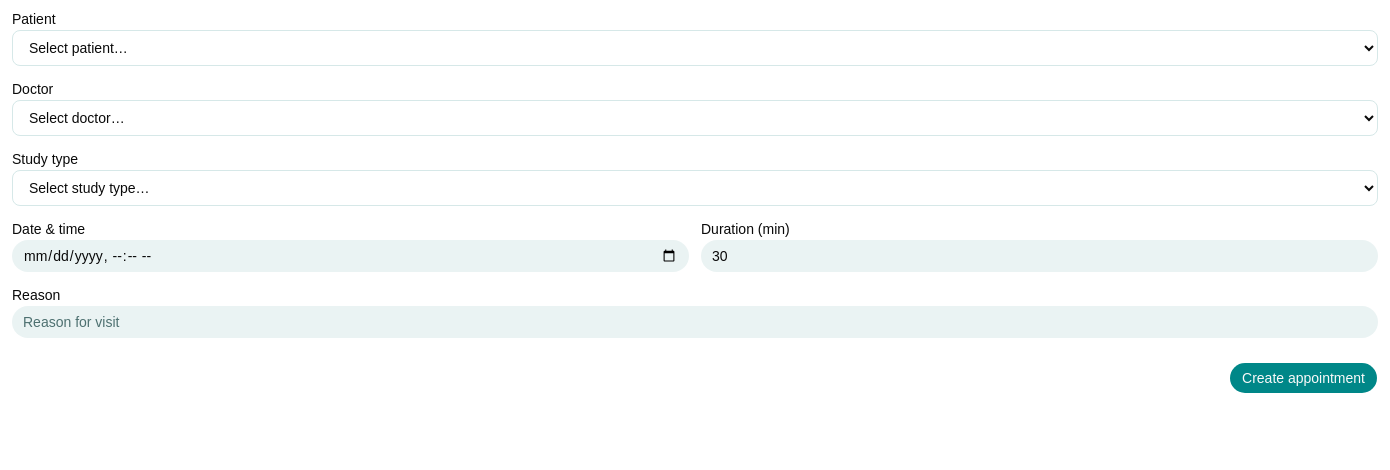
AppointmentForm › as admin › shows validation errors when required fields are empty
The image size is (1390, 470).
Expected: the dropdown labelled "Patient" is shown, [12,30,1378,66]
Click the button "Create appointment" at (1304, 378), box [1229,362,1378,394]
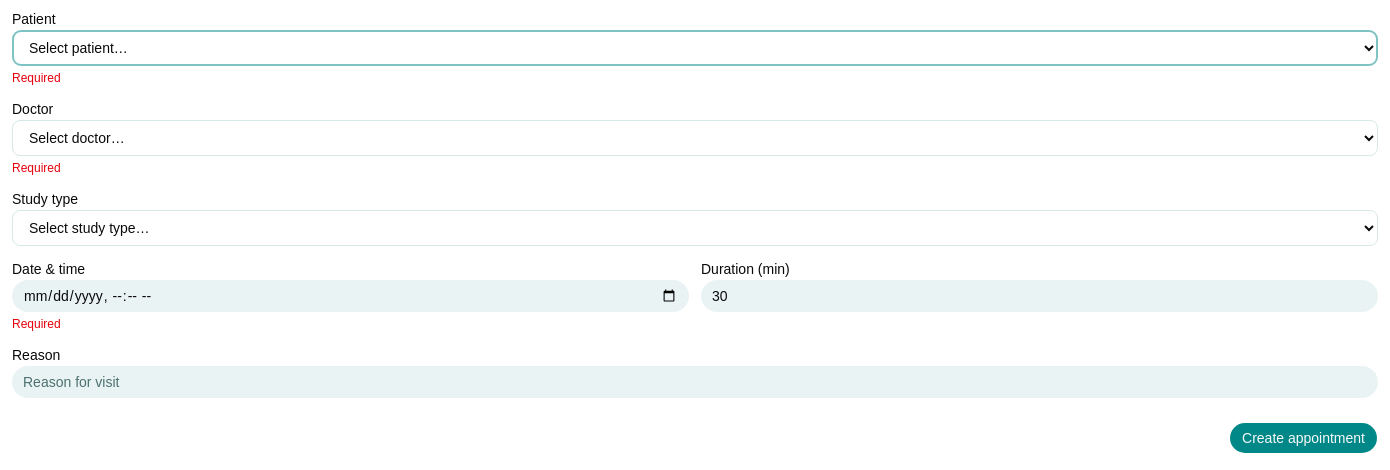
Expected: the text "Required" below "Patient" is shown, [12,71,61,85]
